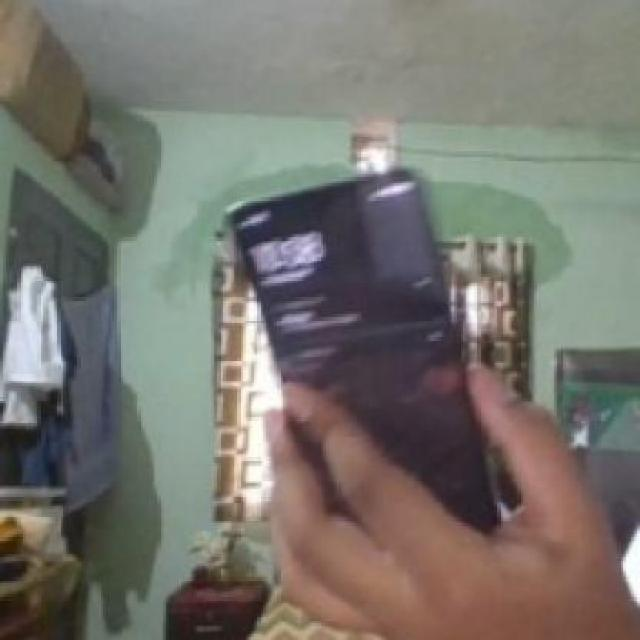Phone: (223, 166, 500, 538)
